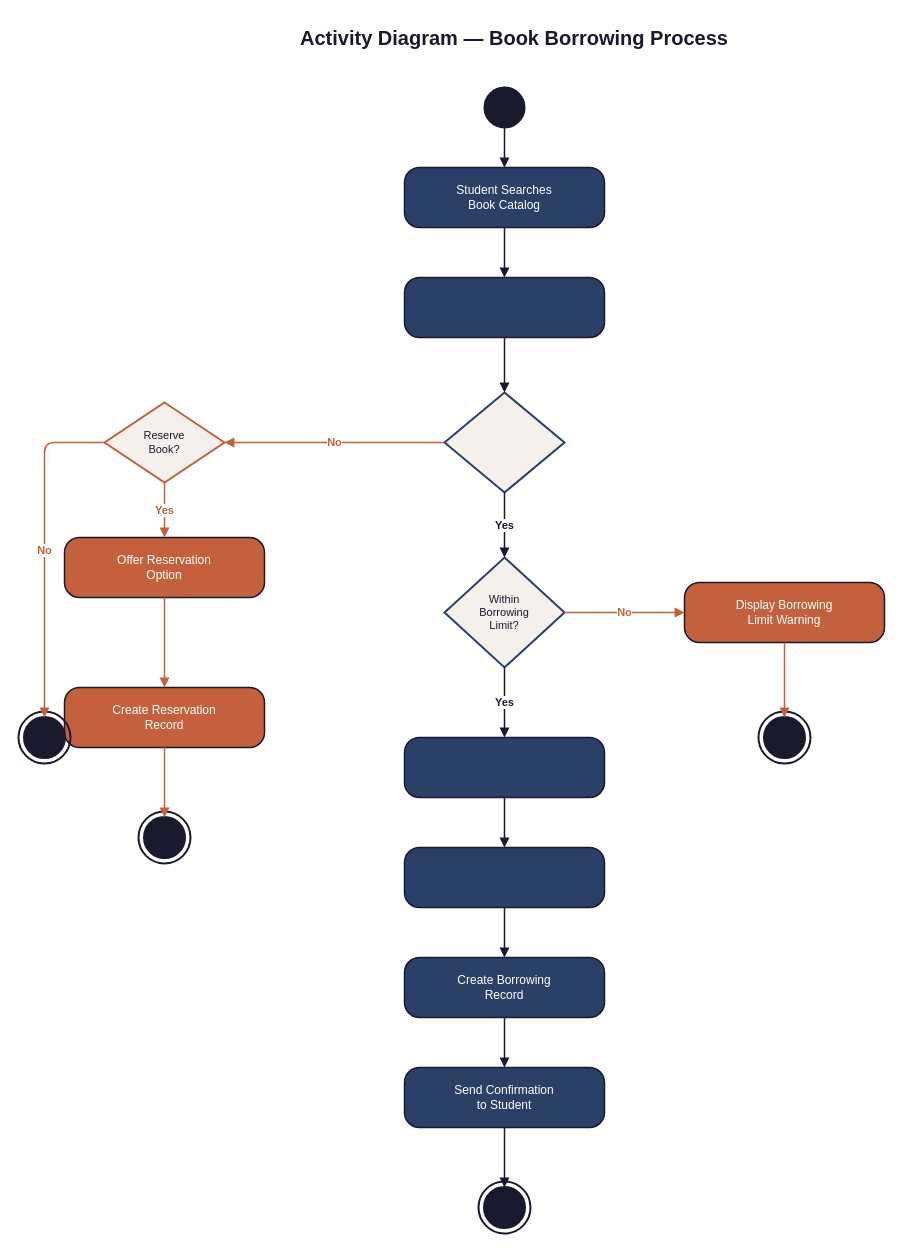
Image size: 902x1251. Some labels were removed from this diagram. The shapes that lost their labels are listed below. From the top down, each one's centre as x and y in pixels, then its label:
At [504,307]: "Student Selects a Book".
At [504,442]: "Book Available?".
At [504,767]: "Confirm Borrowing".
At [504,877]: "Update Book Inventory".
